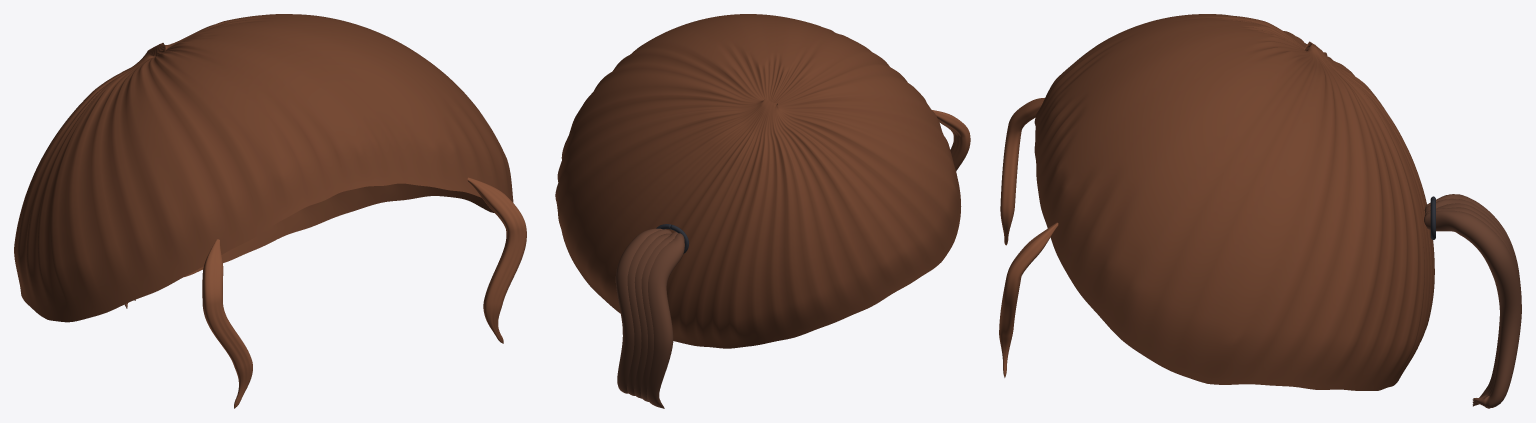
The model's file is Feminine-ponytail-closed-hair.glb.
3 views of the same model, side by side, from view 1: azimuth 30°, elevation 25°; view 2: azimuth 150°, elevation 25°; view 3: azimuth 270°, elevation 25° (orthographic). The views are drawn at different scales.
Visible parts, largest first — view 1: 226 hair / Hair / crisp pulled roots220.001, 226 hair / Hair / sculpted front locks222.001; view 2: 226 hair / Hair / crisp pulled roots220.001, 226 hair / Hair / chestnut226, 226 hair / Hair / sculpted front locks222.001; view 3: 226 hair / Hair / crisp pulled roots220.001, 226 hair / Hair / chestnut226, 226 hair / Hair / sculpted front locks222.001.
Part boxes in pixels (x1,y1,x2,y2): 226 hair / Hair / crisp pulled roots220.001: [14, 14, 513, 322]; 226 hair / Hair / sculpted front locks222.001: [202, 177, 526, 408]; 226 hair / Hair / crisp pulled roots220.001: [555, 14, 961, 348]; 226 hair / Hair / chestnut226: [615, 228, 684, 408]; 226 hair / Hair / sculpted front locks222.001: [932, 110, 970, 171]; 226 hair / Hair / crisp pulled roots220.001: [1034, 14, 1434, 390]; 226 hair / Hair / chestnut226: [1424, 194, 1521, 408]; 226 hair / Hair / sculpted front locks222.001: [999, 98, 1058, 377].
Size of the model in its own units: 0.9675 by 0.7594 by 0.9676.
